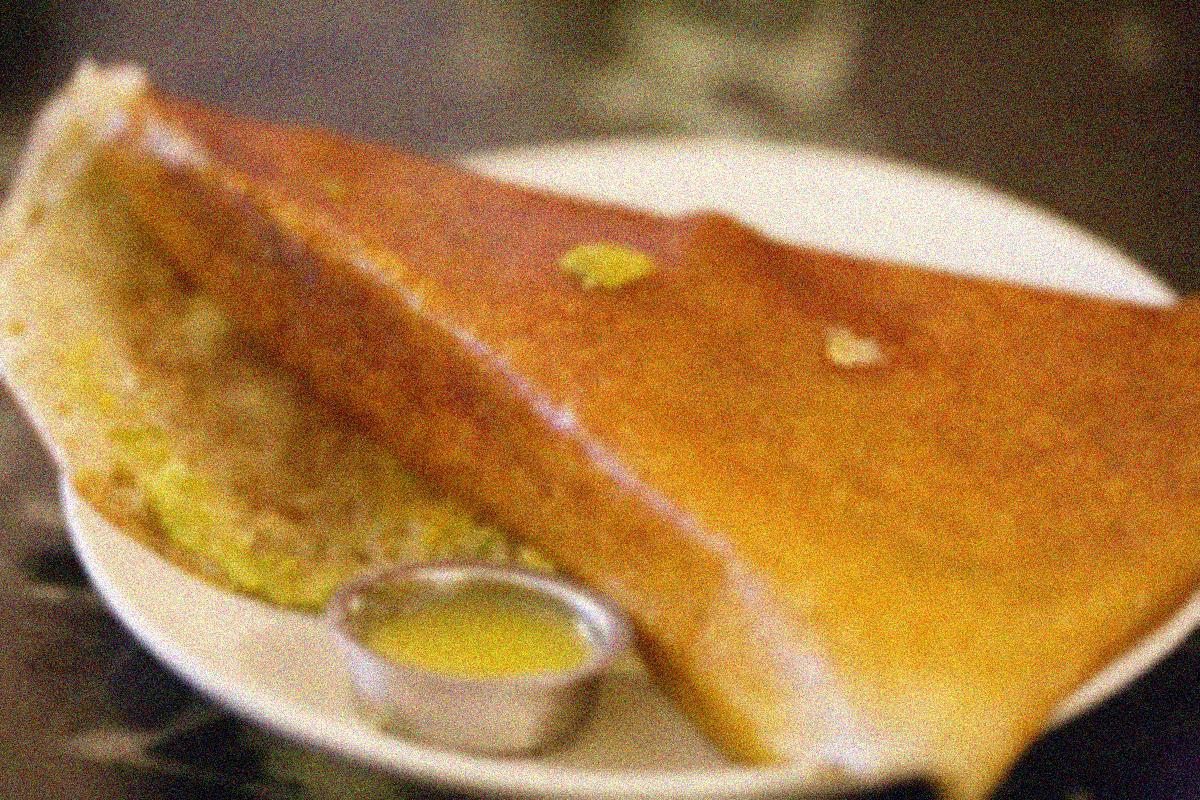dosa: (1, 56, 1200, 750)
